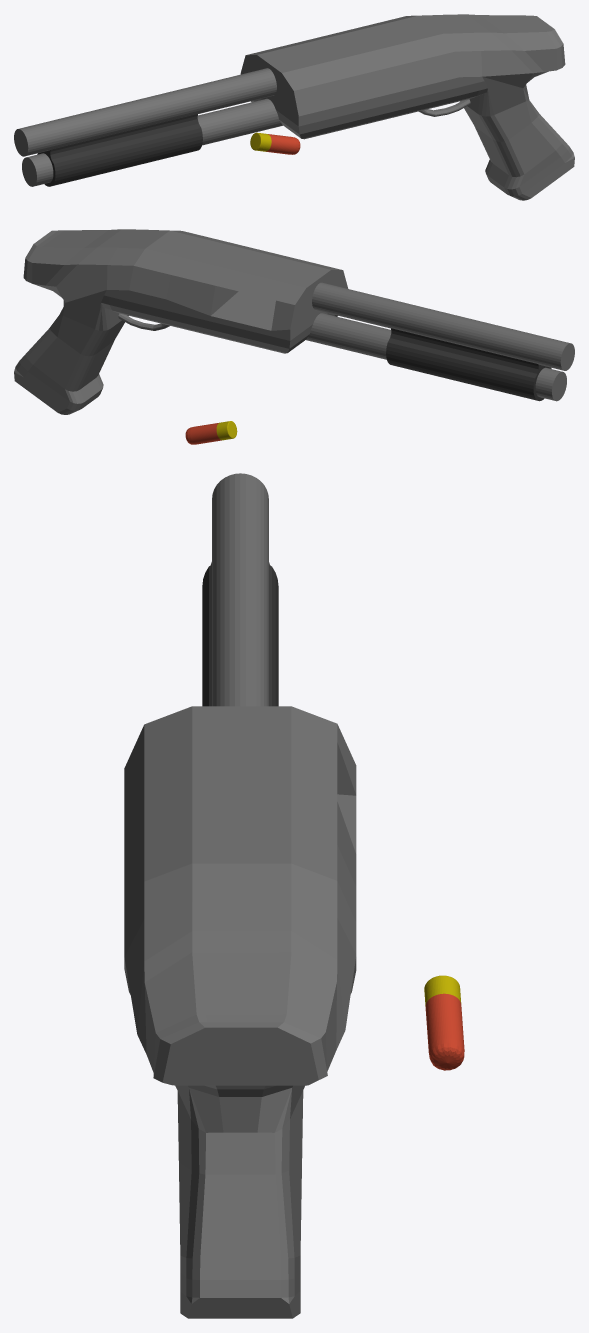
File: Fusil_A_Pompe.fbx
The picture shows the model from 3 angles, top to bottom: view 1: azimuth 30°, elevation 25°; view 2: azimuth 150°, elevation 25°; view 3: azimuth 270°, elevation 25°; orthographic projection. The views are drawn at different scales.
Visible parts, largest first — view 1: Cylinder.002, Cylinder.001, Cylinder.003; view 2: Cylinder.002, Cylinder.001, Cylinder.003; view 3: Cylinder.002, Cylinder.003, Cylinder.001.
Part boxes in pixels (box(x1,y1,x2,y2)): Cylinder.002: box(14, 14, 574, 200); Cylinder.001: box(37, 114, 202, 186); Cylinder.003: box(250, 132, 300, 154); Cylinder.002: box(14, 229, 574, 414); Cylinder.001: box(386, 328, 551, 401); Cylinder.003: box(185, 421, 237, 444); Cylinder.002: box(124, 473, 356, 1318); Cylinder.003: box(424, 975, 464, 1070); Cylinder.001: box(202, 565, 278, 706).
Bounding box in the file's own units: 958 × 315 × 260.
